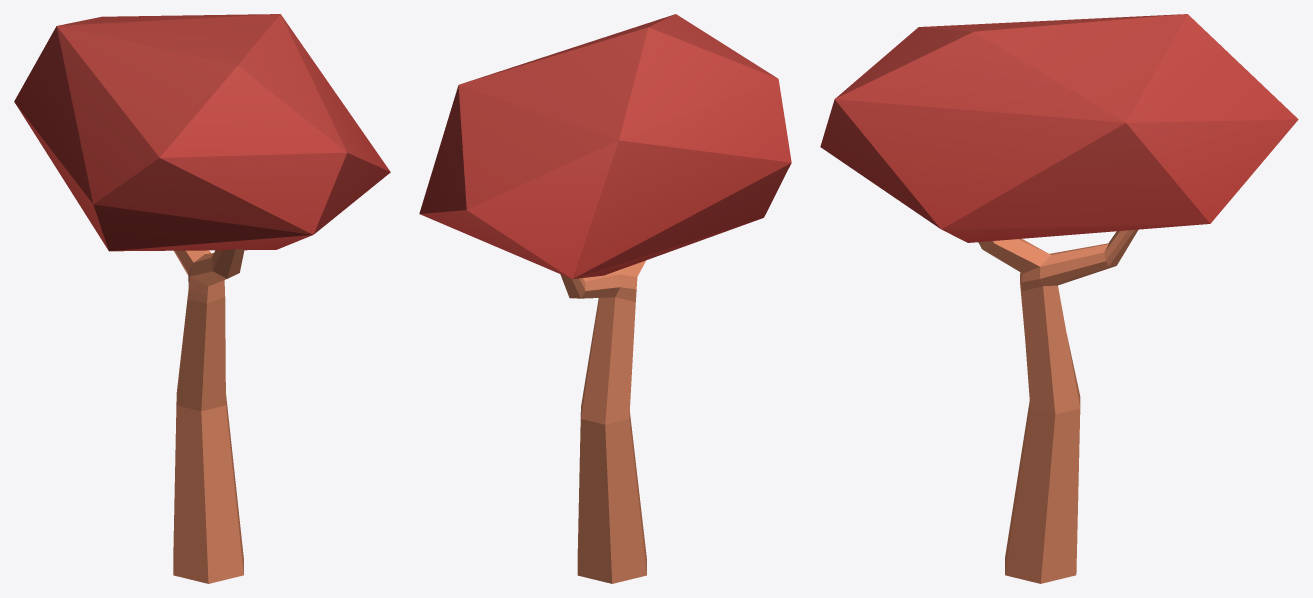
File: Tree_07_gradient_red_pal.fbx
3 renders of one model, left to right at view 1: azimuth 30°, elevation 25°; view 2: azimuth 150°, elevation 25°; view 3: azimuth 270°, elevation 25°, orthographic. The views are drawn at different scales.
Visible parts, largest first — view 1: Tree_07_gradient_red_pal; view 2: Tree_07_gradient_red_pal; view 3: Tree_07_gradient_red_pal.
Part boxes in pixels (x1,y1,x2,y2): Tree_07_gradient_red_pal: (14, 14, 390, 583); Tree_07_gradient_red_pal: (419, 14, 791, 583); Tree_07_gradient_red_pal: (820, 14, 1298, 583).
Size of the model in its own units: 134 by 238 by 194.
